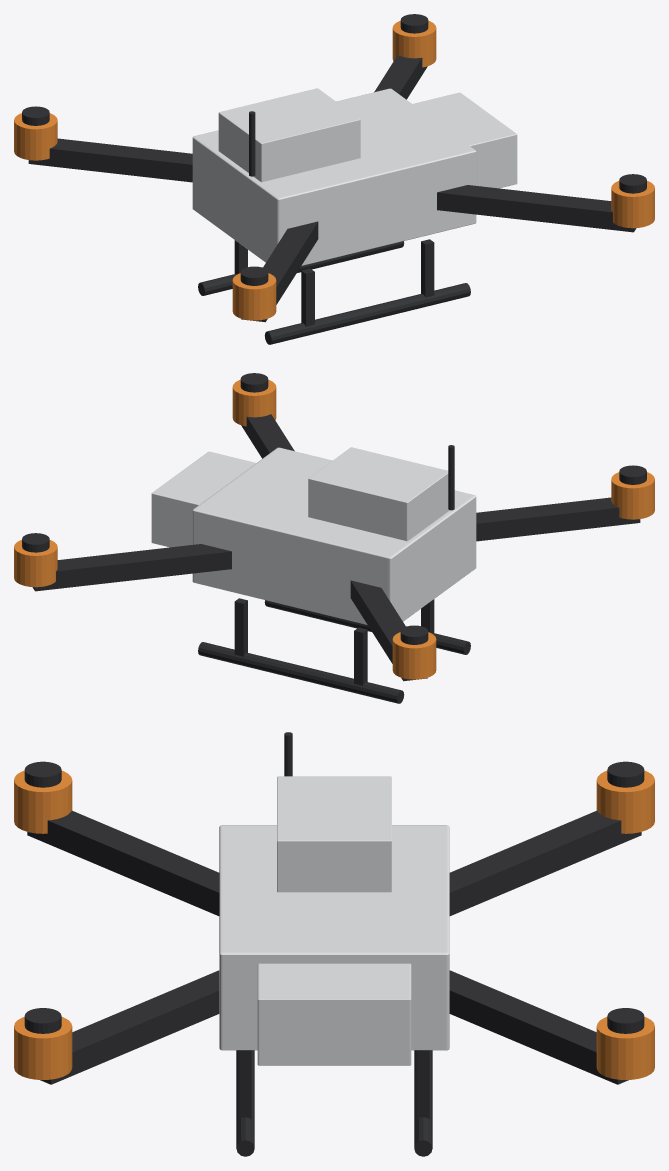
Rendered from SM_AeroDrone_Body.glb.
3 views of the same model, one above another, from view 1: azimuth 30°, elevation 25°; view 2: azimuth 150°, elevation 25°; view 3: azimuth 270°, elevation 25° (orthographic). The views are drawn at different scales.
Parts seen in each view (by area): view 1: SM_AeroDrone_Body; view 2: SM_AeroDrone_Body; view 3: SM_AeroDrone_Body.
Part boxes in pixels (left/top/right/bottom): SM_AeroDrone_Body: left=14, top=14, right=654, bottom=344; SM_AeroDrone_Body: left=14, top=373, right=654, bottom=703; SM_AeroDrone_Body: left=14, top=732, right=654, bottom=1156.
Bounding box in the file's own units: 0.418 × 0.211 × 0.418.
